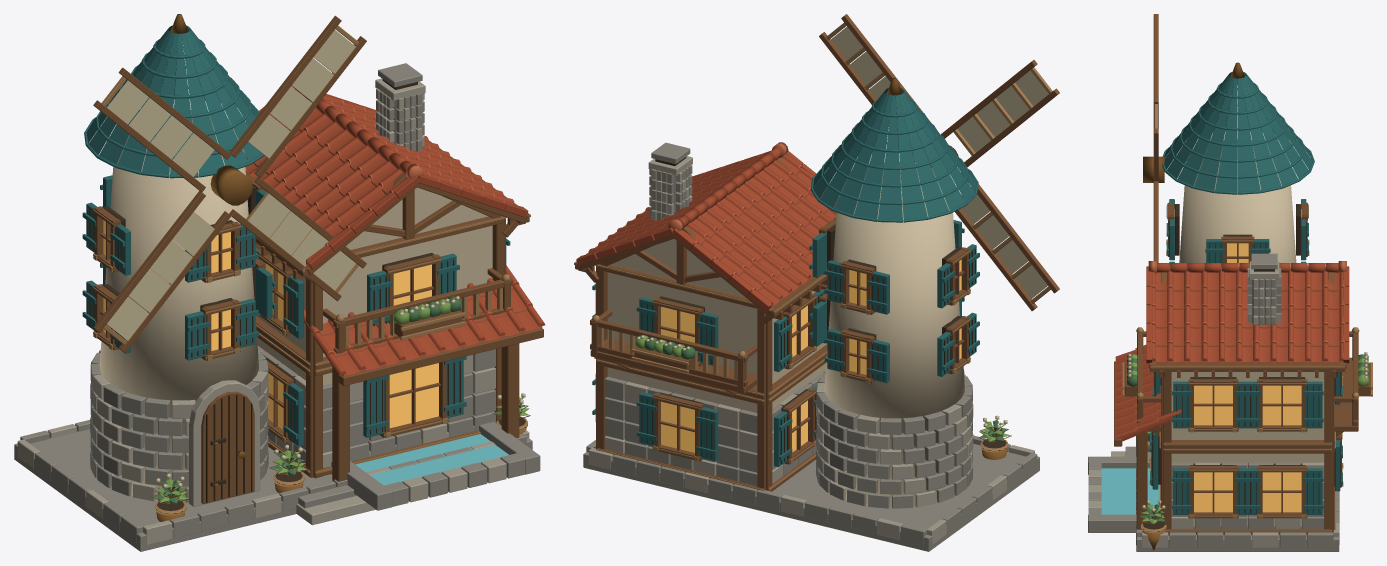
The picture shows the model from 3 angles, left to right: view 1: azimuth 30°, elevation 25°; view 2: azimuth 150°, elevation 25°; view 3: azimuth 270°, elevation 25°; orthographic projection. The views are drawn at different scales.
Parts seen in each view (by area): view 1: alpine_windmill_geometry, alpine_windmill_sails_geometry; view 2: alpine_windmill_geometry, alpine_windmill_sails_geometry; view 3: alpine_windmill_geometry, alpine_windmill_sails_geometry.
Boxes of the visible parts, x1,y1,x2,y2 form: alpine_windmill_geometry: (14,14,545,551); alpine_windmill_sails_geometry: (93,15,366,352); alpine_windmill_geometry: (574,78,1039,551); alpine_windmill_sails_geometry: (819,14,1059,310); alpine_windmill_geometry: (1088,62,1372,551); alpine_windmill_sails_geometry: (1143,14,1164,262).
Bounding box in the file's own units: 2.8 × 2.94 × 1.98.
